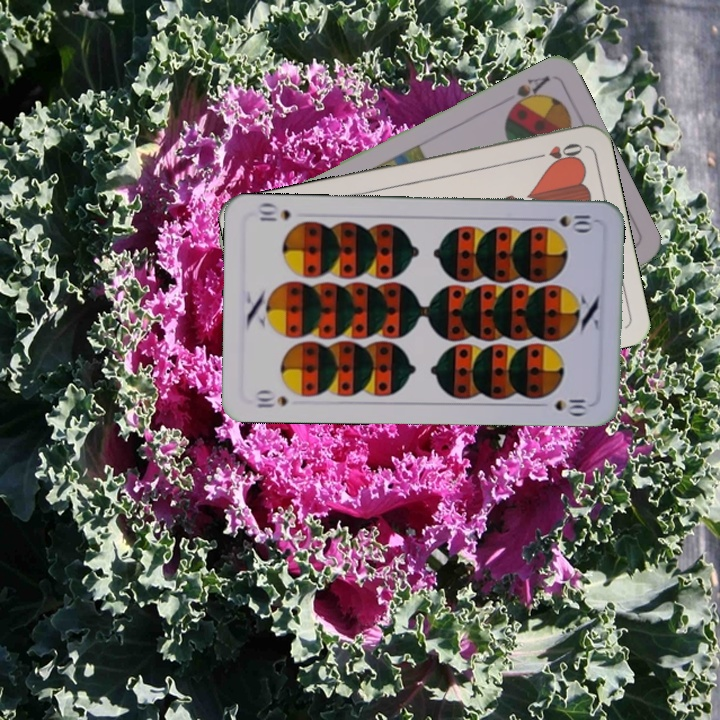HO: (527, 139, 585, 164)
S10: (555, 211, 598, 232), (252, 387, 289, 411)
SA: (504, 71, 553, 115)
